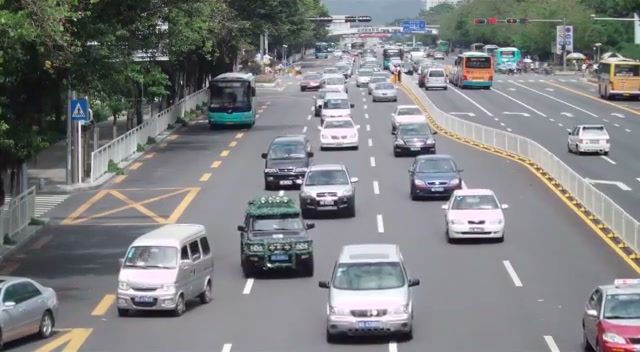bus: (207, 72, 256, 129), (597, 58, 640, 100), (450, 52, 495, 88), (494, 46, 521, 73)
car: (319, 243, 421, 343), (116, 222, 215, 317), (0, 275, 59, 350), (581, 280, 640, 352), (443, 188, 507, 244), (298, 161, 358, 218), (406, 154, 467, 201), (262, 135, 313, 191), (393, 119, 437, 158), (318, 116, 360, 151), (567, 124, 611, 156), (389, 105, 427, 135), (370, 81, 398, 102), (423, 68, 448, 91), (300, 72, 324, 91)
truck: (116, 223, 215, 317), (237, 194, 316, 278), (597, 58, 640, 100)
